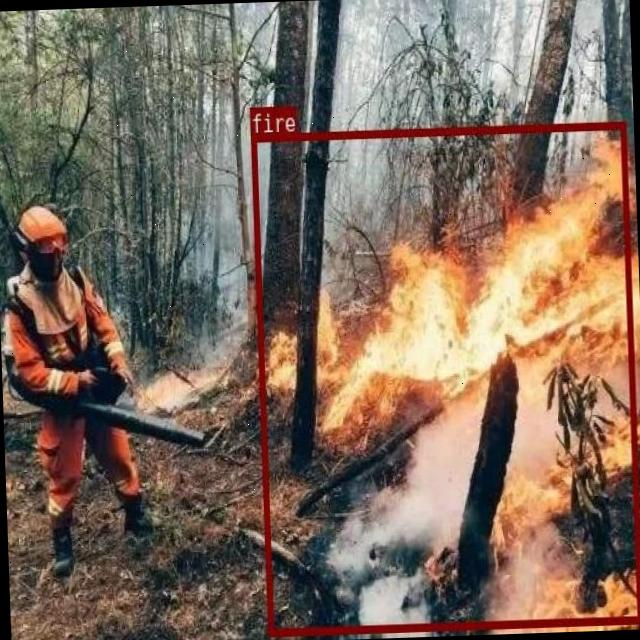fire: (249, 120, 640, 635)
